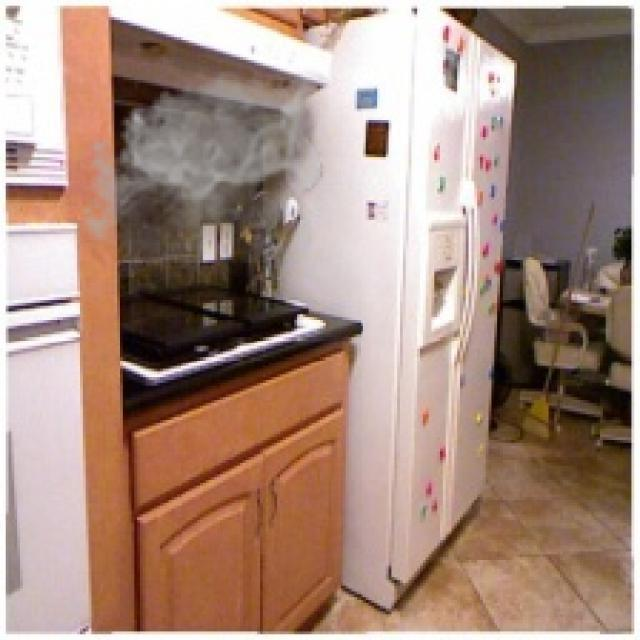Smoke: (74, 63, 329, 263)
